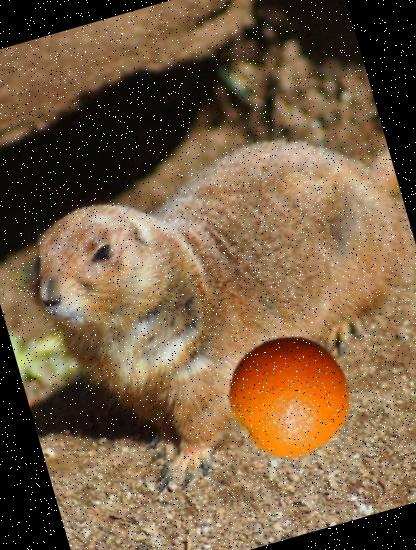Orange: (214, 318, 366, 470)
